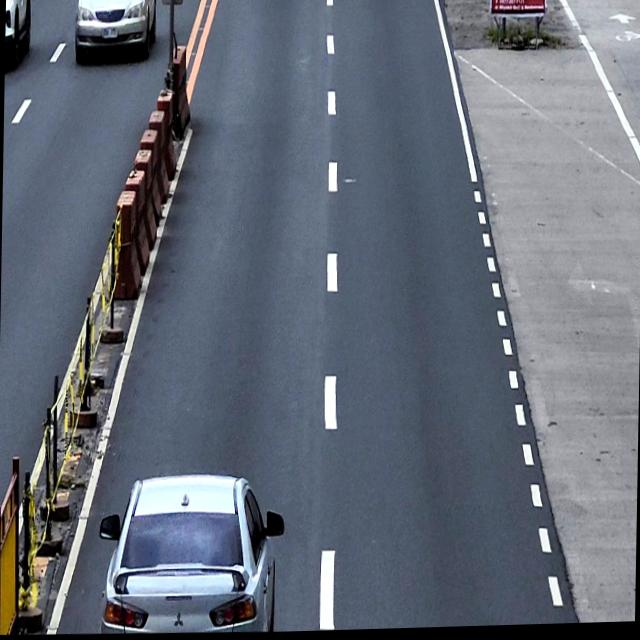Car: (99, 471, 287, 637), (74, 0, 159, 65), (4, 0, 32, 66)
License-Plate: (100, 25, 118, 41)
